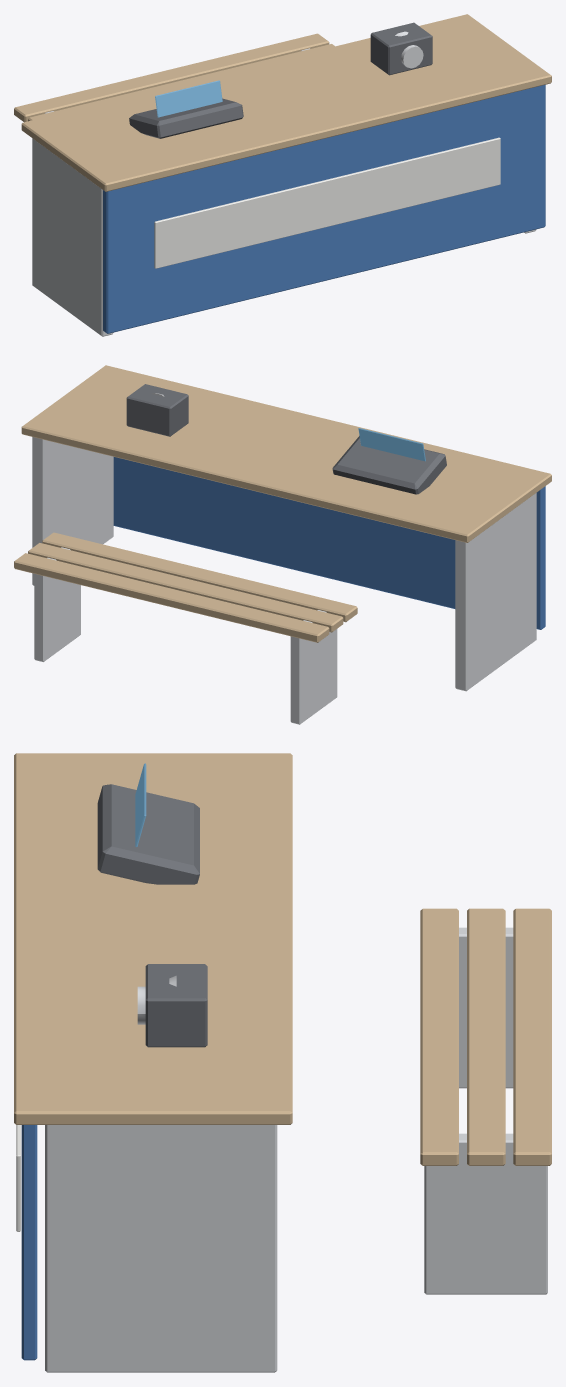
Rendered from ice-hockey-arena-and-locker-room-scorers-table-2574e960__33703.glb.
3 views of the same model, one above another, from view 1: azimuth 30°, elevation 25°; view 2: azimuth 150°, elevation 25°; view 3: azimuth 270°, elevation 25° (orthographic). The views are drawn at different scales.
Visible parts, largest first — view 1: scorers-table; view 2: scorers-table; view 3: scorers-table.
Boxes of the visible parts, x1=… form: scorers-table: x1=14, y1=14, x2=551, y2=336; scorers-table: x1=14, y1=365, x2=551, y2=724; scorers-table: x1=14, y1=753, x2=551, y2=1372.
Bounding box in the file's own units: 2.2 × 0.9351 × 1.39.
